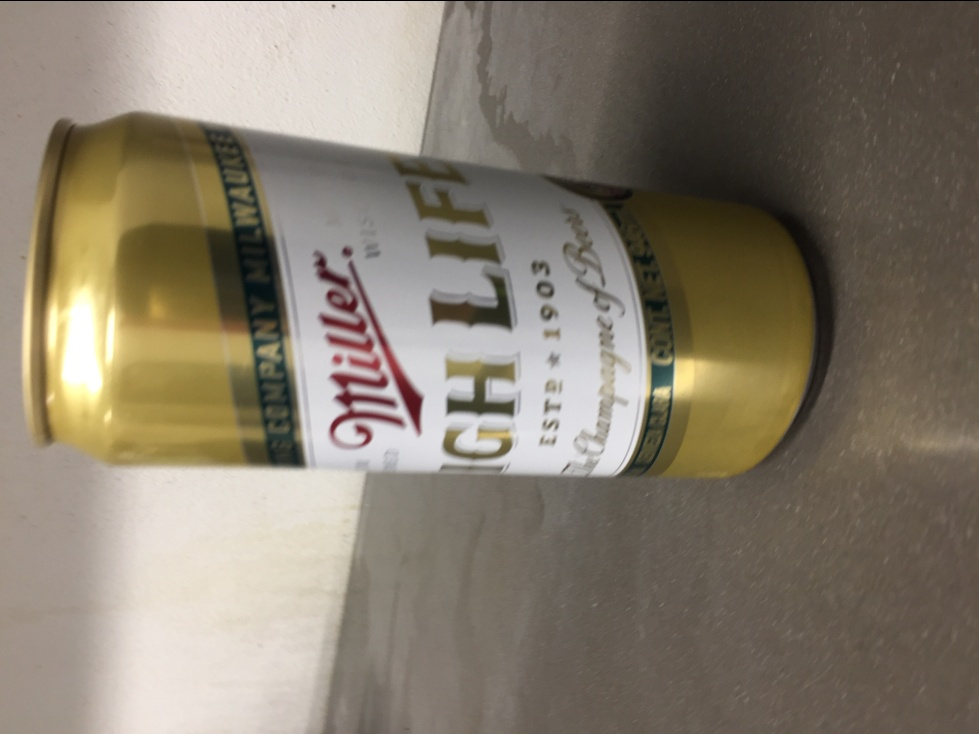miller: (18, 107, 822, 484)
